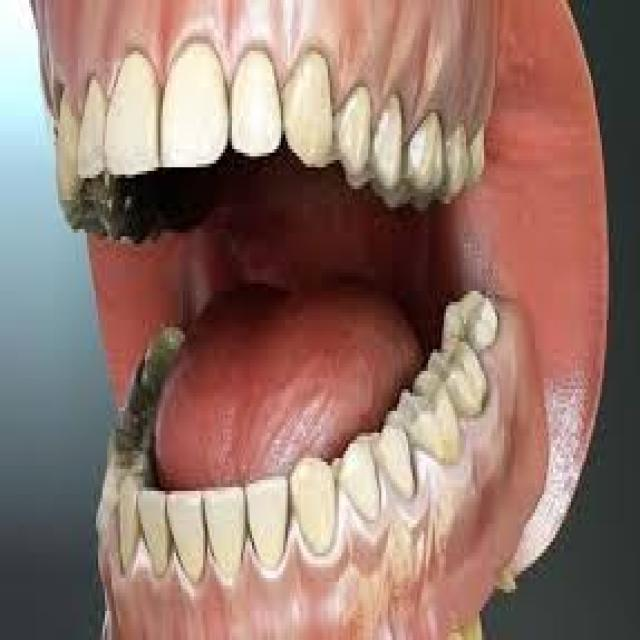tooth: (156, 55, 232, 156), (98, 62, 154, 171), (227, 55, 279, 156), (279, 62, 328, 167), (397, 393, 462, 462), (165, 498, 210, 589), (433, 353, 488, 425), (330, 94, 377, 174), (245, 484, 290, 556), (205, 491, 241, 574), (136, 491, 170, 578), (299, 462, 332, 549), (371, 98, 402, 186), (348, 436, 381, 513), (448, 305, 491, 360), (415, 127, 450, 193), (379, 429, 408, 498), (120, 484, 143, 560), (82, 88, 102, 168)
